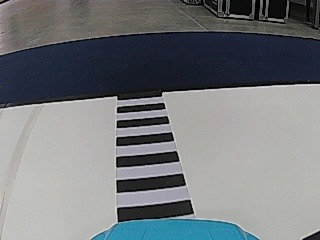CrossWalk: (112, 94, 193, 214)
